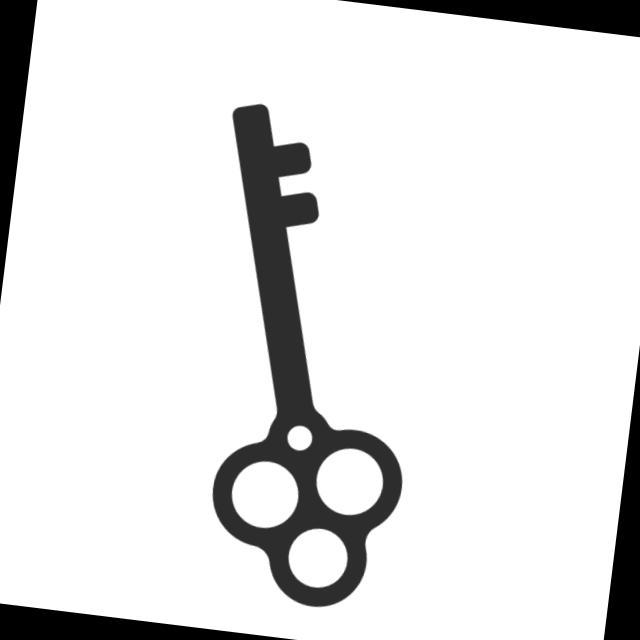key: (163, 99, 453, 630)
